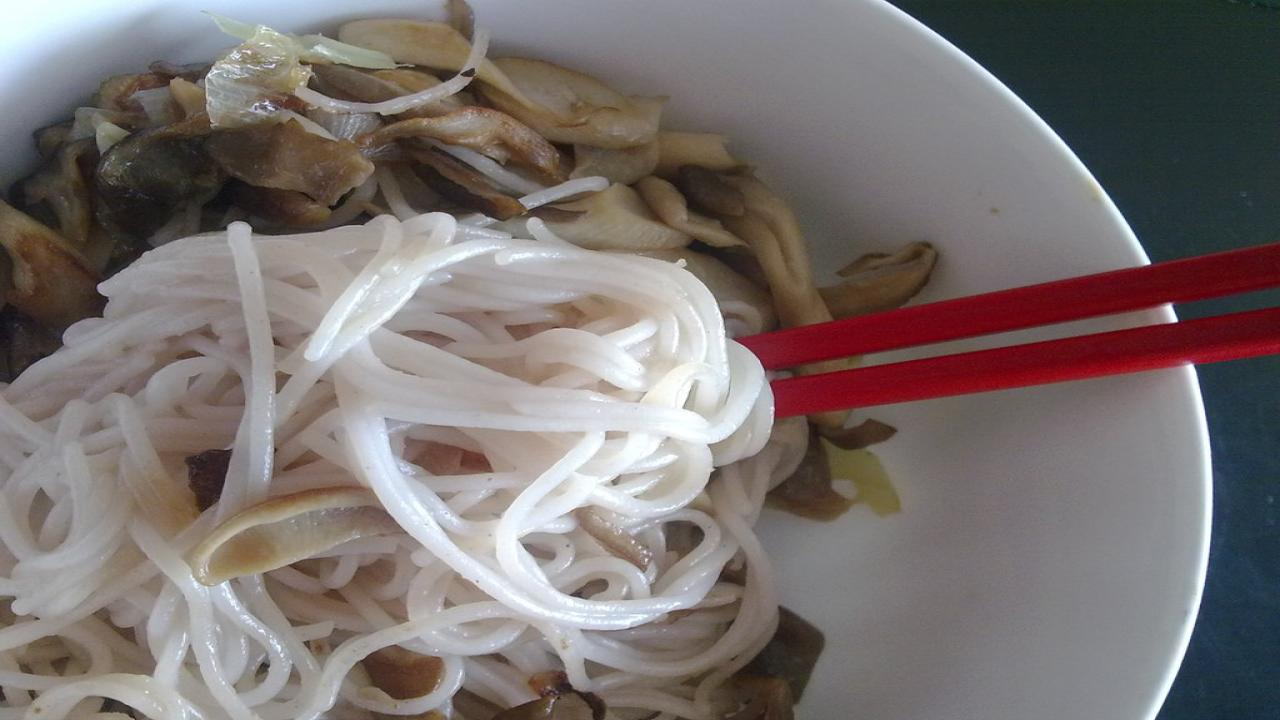chopstick: (719, 241, 1280, 418)
